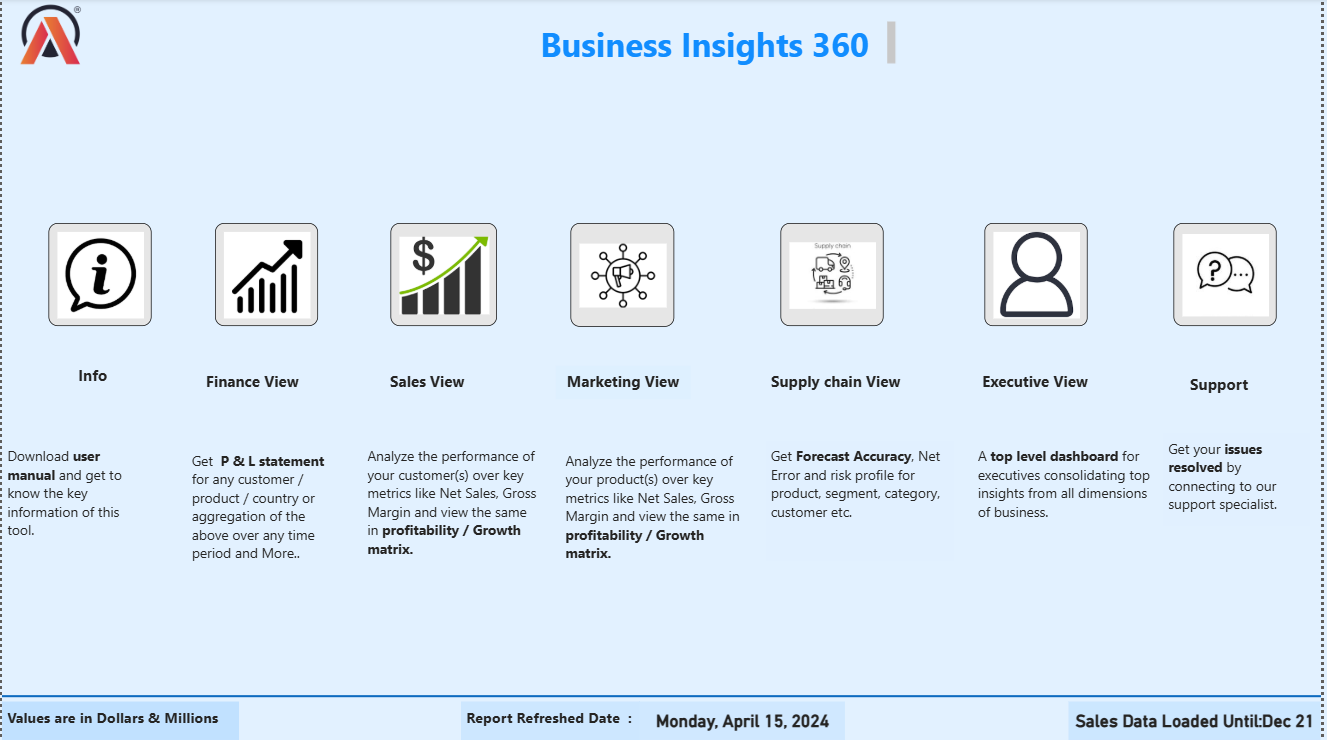

Layout of this report page (visuals, bound fields, positions):
{"tool":"powerbi","page":{"name":"Home","canvas":[1280,720],"ordinal":0},"visuals":[{"type":"image","box":[45.3,218.4,100.3,100.3],"z":0},{"type":"image","box":[755.6,218.4,100.3,100.3],"z":1000},{"type":"image","box":[207.1,218.4,100.3,100.3],"z":2000},{"type":"image","box":[552.2,218.6,100.4,100.4],"z":3000},{"type":"image","box":[0,0,95.5,69.6],"z":4000},{"type":"image","box":[1137.4,218.4,100.3,100.3],"z":5000},{"type":"textbox","box":[464.4,17.8,407.7,51.8],"z":6000},{"type":"textbox","box":[0,428.8,145.6,100.3],"z":7000},{"type":"textbox","box":[179.6,433.6,153.7,123],"z":8000},{"type":"textbox","box":[349.8,429.1,174.9,127.9],"z":9000},{"type":"image","box":[377,218.4,103.6,100.3],"z":10000},{"type":"textbox","box":[542,433.6,189.3,147.2],"z":11000},{"type":"textbox","box":[741,428.8,182.8,116.5],"z":12000},{"type":"textbox","box":[1126.1,422.3,142.4,90.6],"z":13000},{"type":"image","box":[953,218.4,100.3,100.3],"z":14000},{"type":"textbox","box":[942.4,429.1,183,100.4],"z":15000},{"type":"textbox","box":[30.8,351.4,115,38.9],"z":16000},{"type":"textbox","box":[360.8,356,103.6,35.6],"z":17000},{"type":"textbox","box":[731.9,356.2,153.8,32.4],"z":18000},{"type":"textbox","box":[179.7,356.2,127.9,34],"z":19000},{"type":"textbox","box":[942.4,356.2,121.4,37.2],"z":20000},{"type":"textbox","box":[1125.4,359.5,111.7,40.5],"z":21000},{"type":"textbox","box":[537.2,356,131.1,32.4],"z":22000},{"type":"shape","box":[0,670.4,1280.8,13],"z":23000},{"type":"card","fields":{"Values":["Key Measures.Last sales Month footer"]},"box":[1034.7,683.3,244.5,37.2],"z":24000},{"type":"textbox","box":[0,683.3,229.9,37.2],"z":25000},{"type":"textbox","box":[445.3,683.3,173.3,37.2],"z":26000},{"type":"card","fields":{"Values":["Min(Report Refresh Date.Report Last Refreshed)"]},"box":[618.5,683.3,199.2,37.2],"z":27000}]}

Visuals, with their boxes in screenshot pixels (x1, y1, x2, y2), scaled from the page's 1280x720 canvas onto the 1327x740 screenshot:
image: select_region(47, 224, 151, 328)
image: select_region(783, 224, 887, 328)
image: select_region(215, 224, 319, 328)
image: select_region(572, 225, 677, 328)
image: select_region(0, 0, 99, 72)
image: select_region(1179, 224, 1283, 328)
textbox: select_region(481, 18, 904, 72)
textbox: select_region(0, 441, 151, 544)
textbox: select_region(186, 446, 346, 572)
textbox: select_region(363, 441, 544, 572)
image: select_region(391, 224, 498, 328)
textbox: select_region(562, 446, 758, 597)
textbox: select_region(768, 441, 958, 560)
textbox: select_region(1167, 434, 1315, 527)
image: select_region(988, 224, 1092, 328)
textbox: select_region(977, 441, 1167, 544)
textbox: select_region(32, 361, 151, 401)
textbox: select_region(374, 366, 481, 402)
textbox: select_region(759, 366, 918, 399)
textbox: select_region(186, 366, 319, 401)
textbox: select_region(977, 366, 1103, 404)
textbox: select_region(1167, 369, 1283, 411)
textbox: select_region(557, 366, 693, 399)
shape: select_region(0, 689, 1326, 702)
card - Key Measures.Last sales Month footer: select_region(1073, 702, 1326, 739)
textbox: select_region(0, 702, 238, 739)
textbox: select_region(462, 702, 641, 739)
card - Min(Report Refresh Date.Report Last Refreshed): select_region(641, 702, 848, 739)
